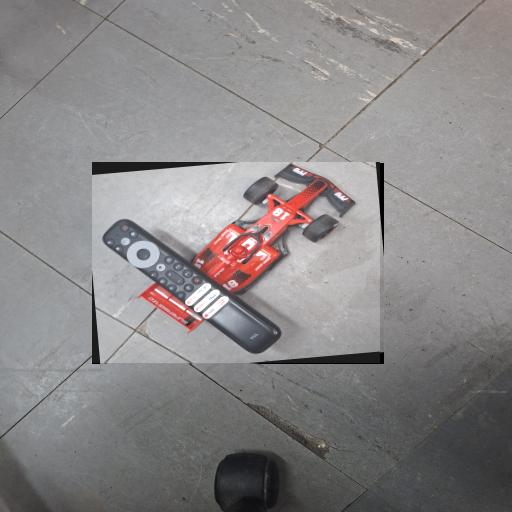carro: (92, 163, 380, 363)
